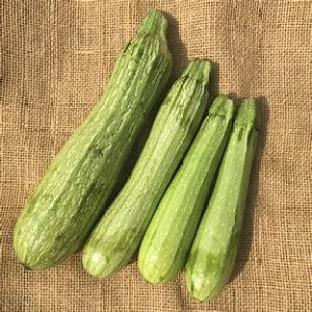Zucchini: (14, 11, 171, 269), (84, 60, 210, 277), (139, 95, 234, 282), (187, 100, 257, 300)
